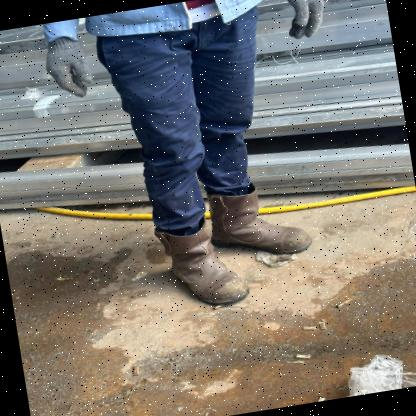bota: (140, 197, 258, 323), (199, 168, 323, 270)
